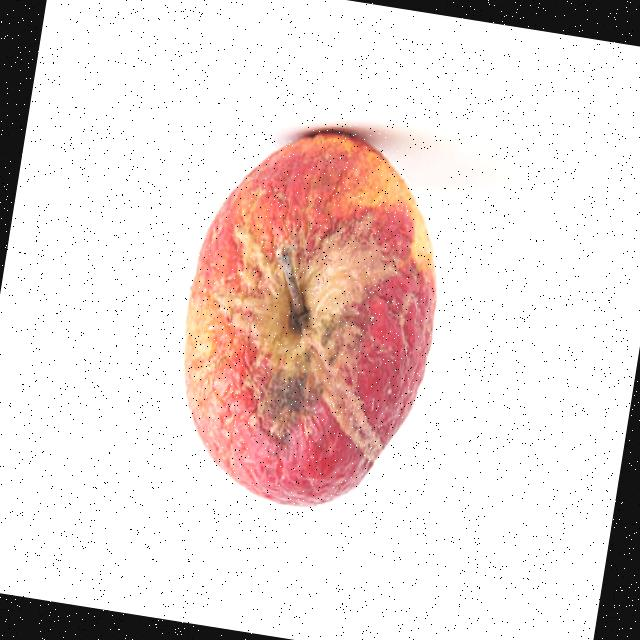overripe: (156, 103, 466, 530)
